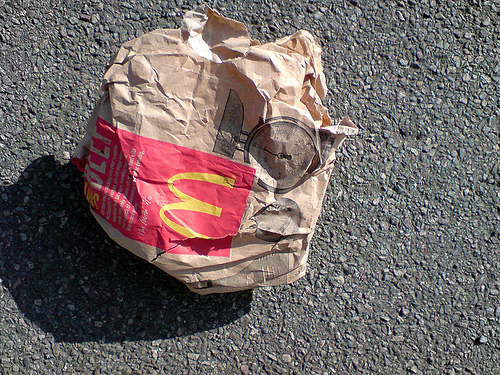litter: (72, 7, 357, 295)
